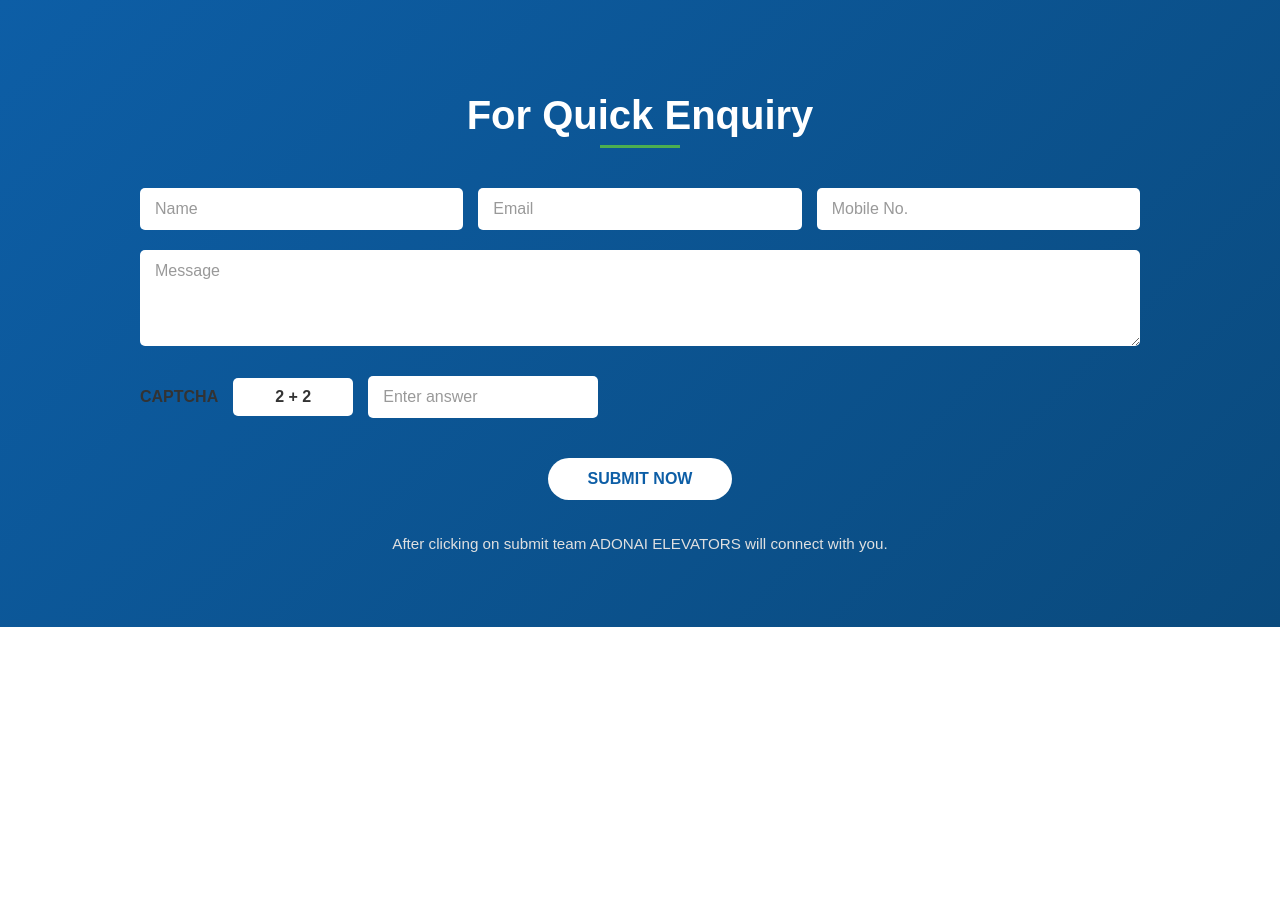
Test: submits the CAPTCHA token alongside the form and shows the success message
Expected: the text "2 + 2" is shown, [233,378,353,416]
Type "Jane Doe" into the field with placeholder "Name" at (302, 209), box [140,188,463,230]
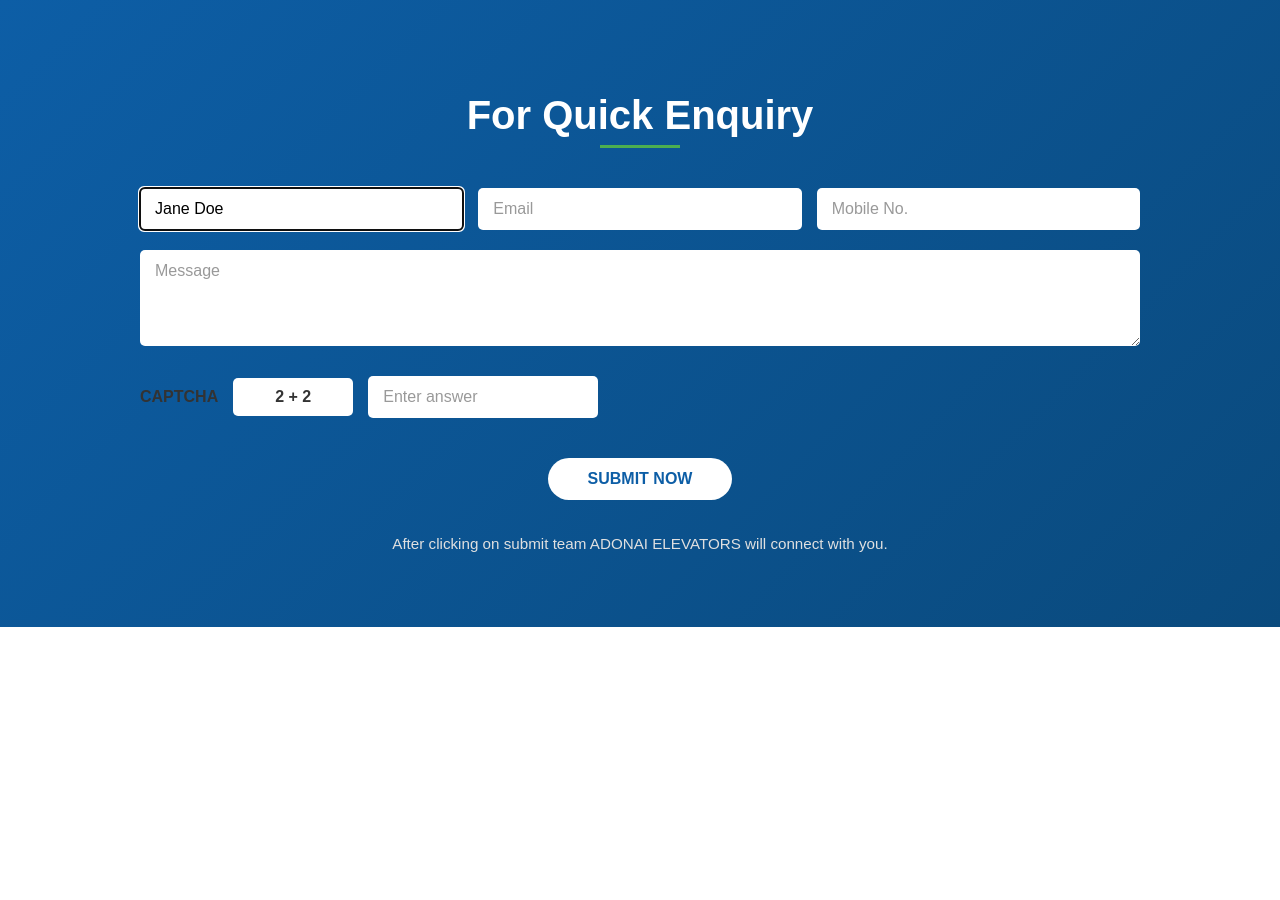
Type "jane@example.com" into the field with placeholder "Email" at (640, 209), box [478,188,802,230]
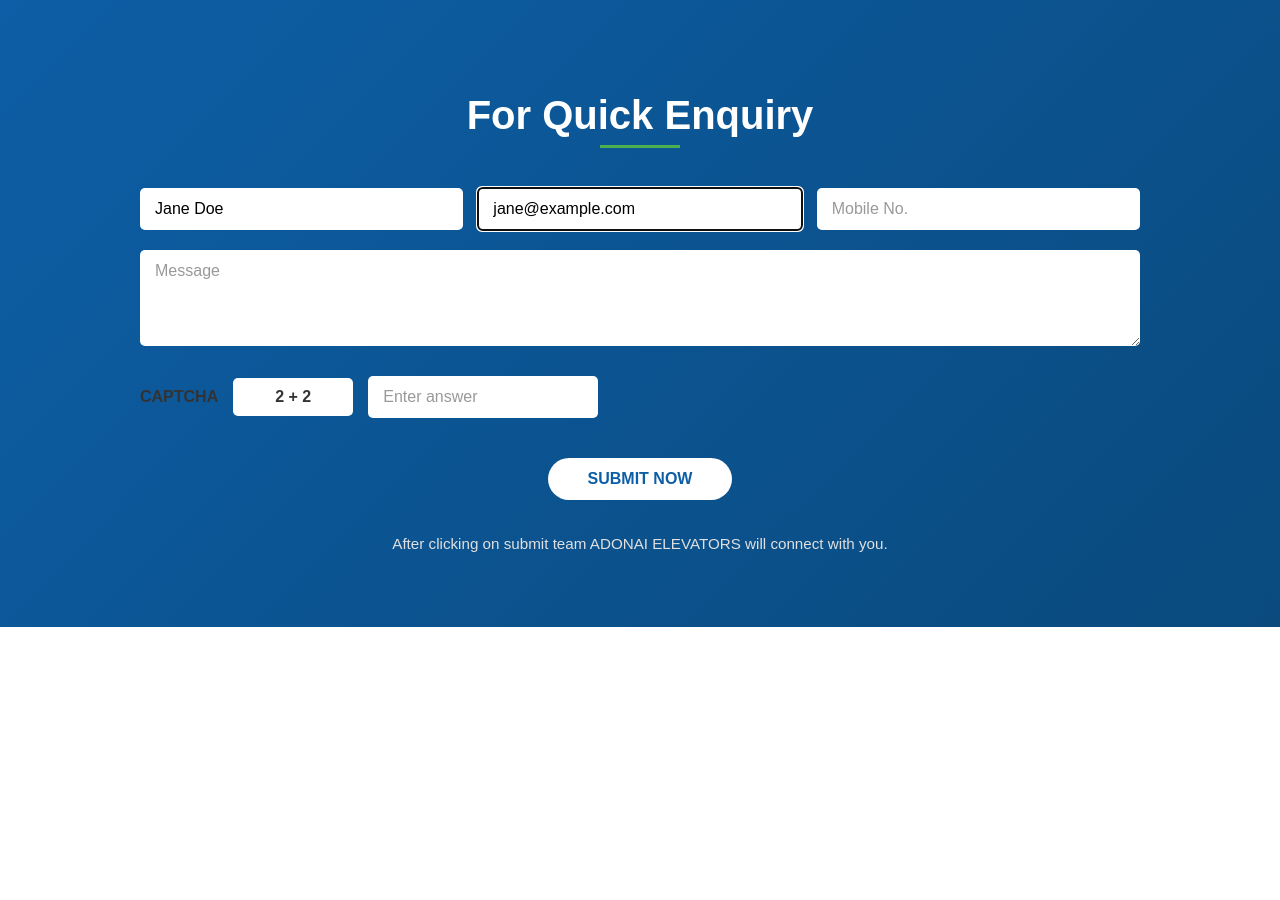
Type "9876543210" into the field with placeholder "Mobile No." at (978, 209), box [817,188,1140,230]
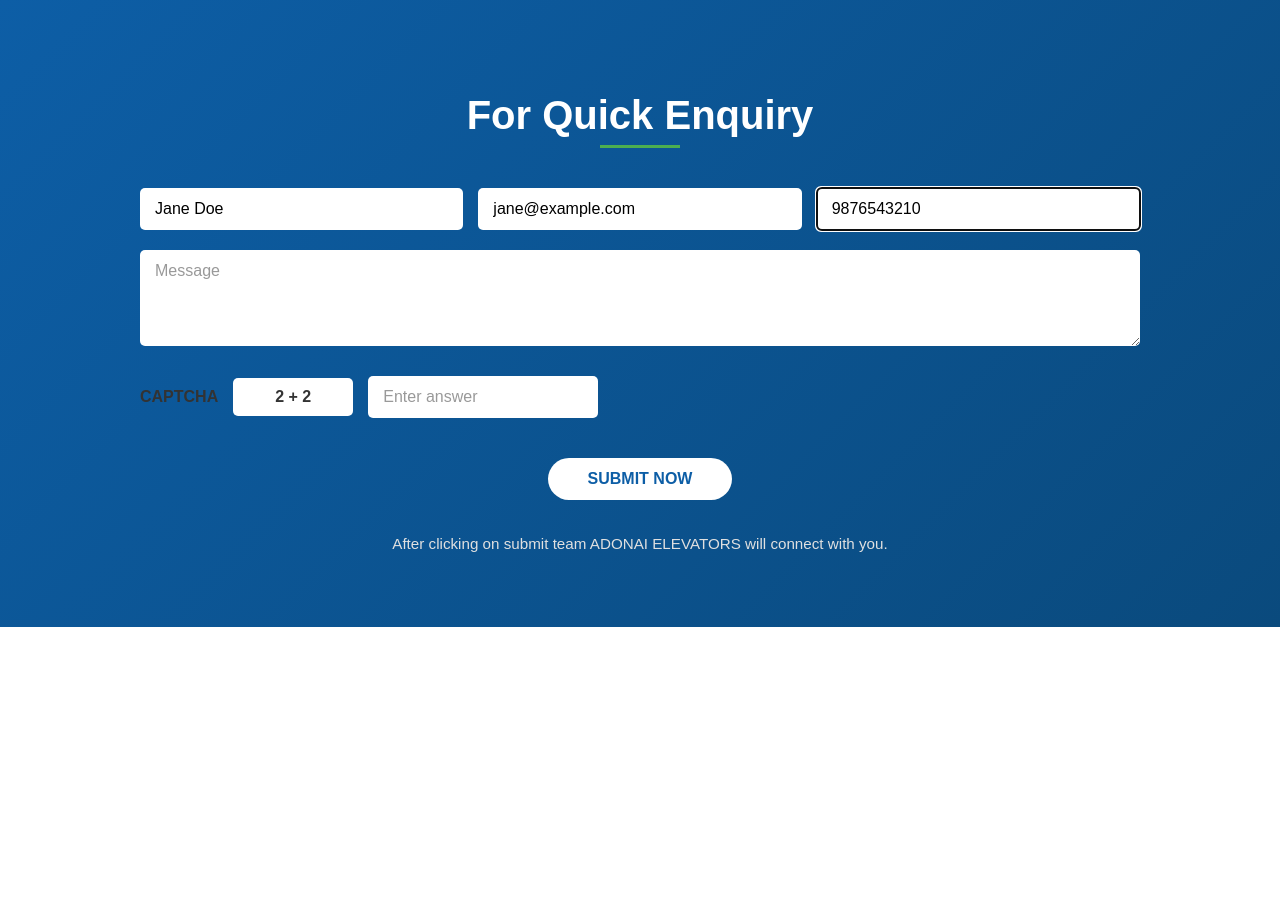
Type "4" into the field with placeholder "Enter answer" at (483, 397), box [368,376,598,418]
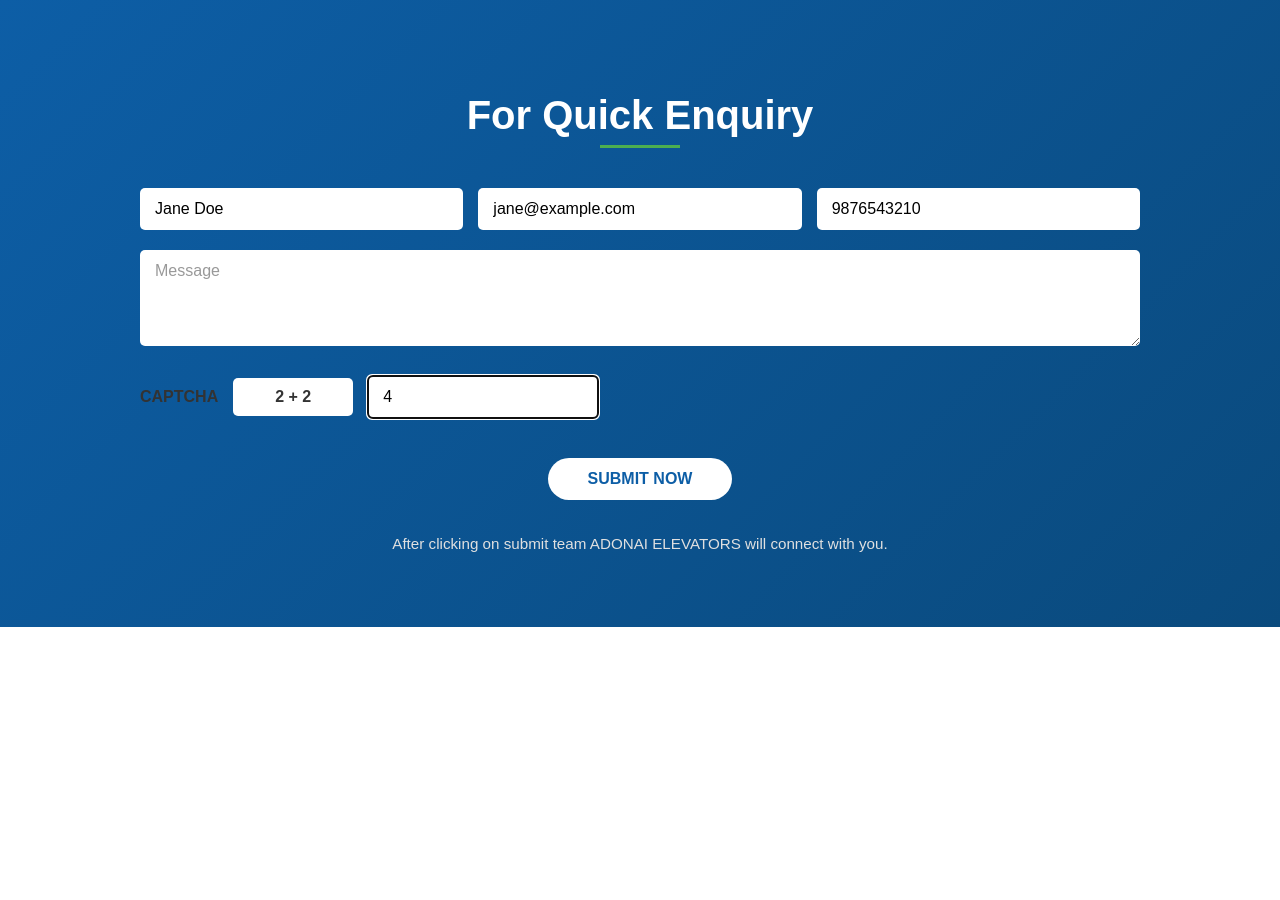
Type "Need a quote" into the text box with placeholder "Message" at (640, 298), box [140,250,1140,346]
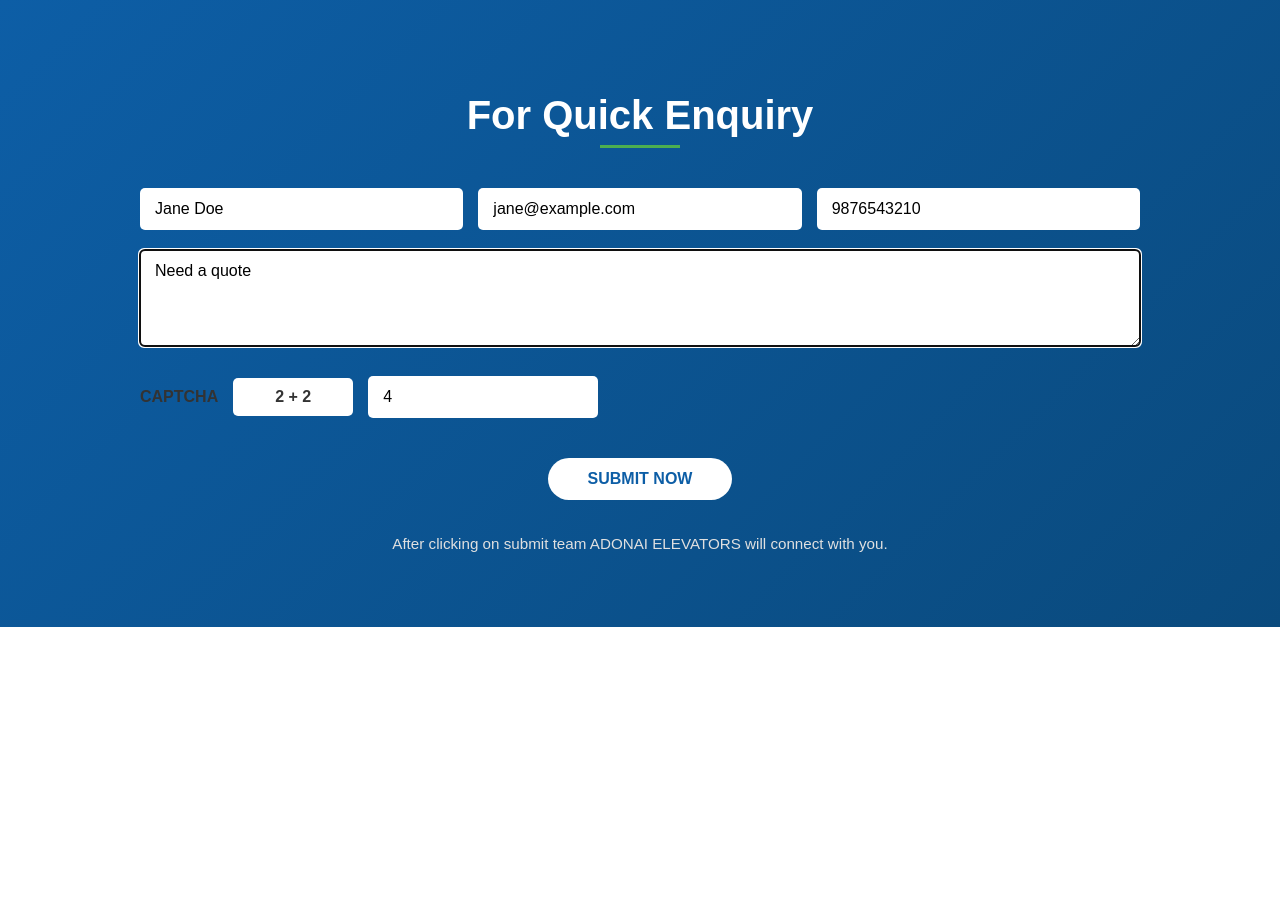
Click the button "SUBMIT NOW" at (640, 479), box [548,458,732,500]
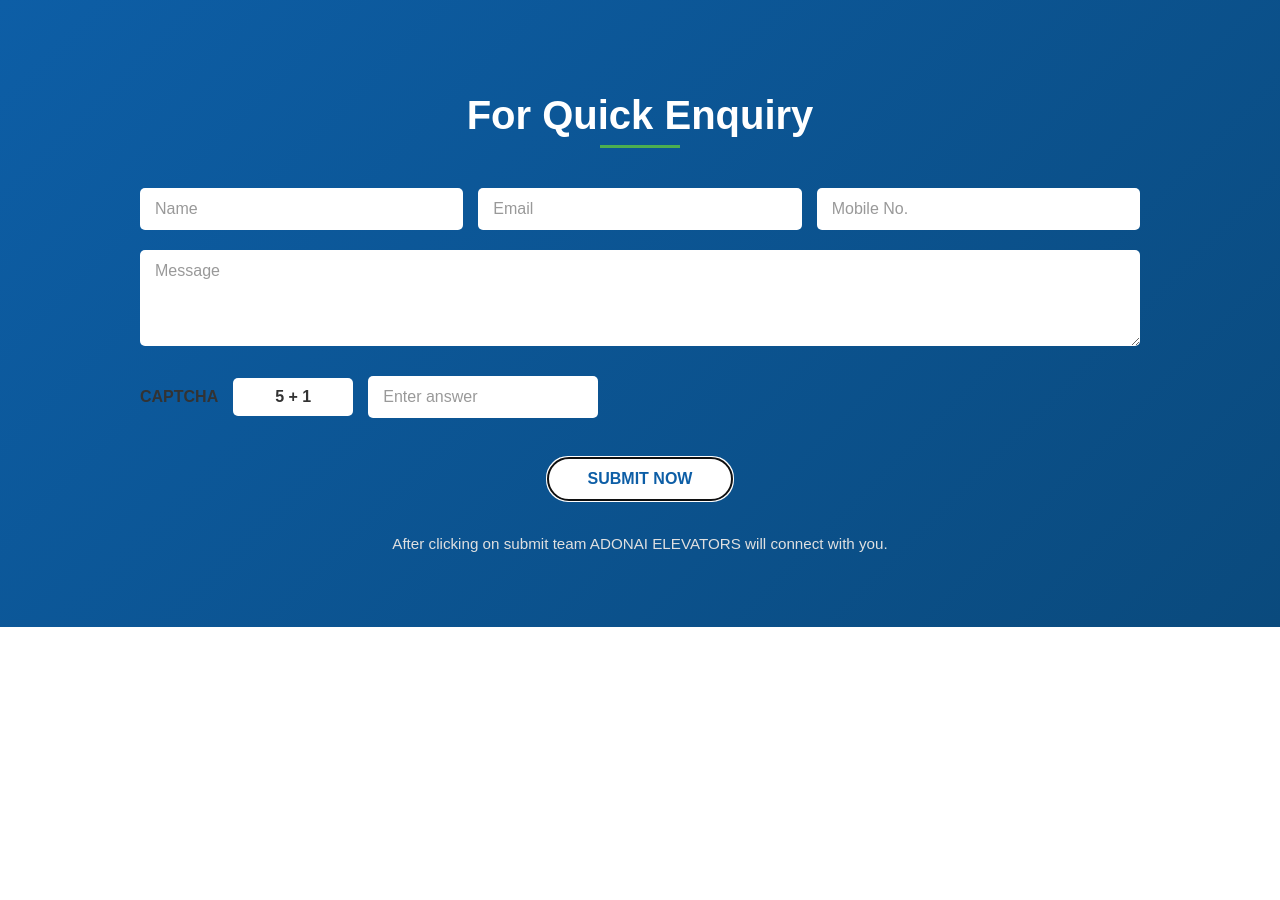
Expected: the text "5 + 1" is shown, [233,378,353,416]
Expected: the field with placeholder "Name" is empty, [140,188,463,230]
